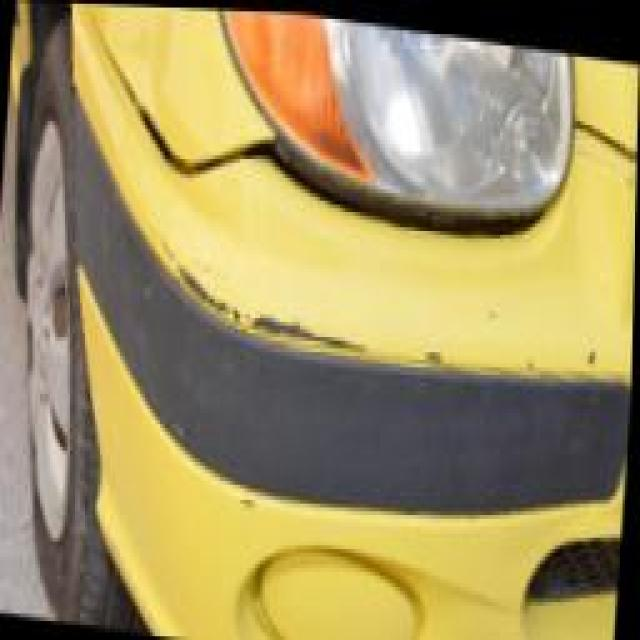Bumper: (20, 110, 638, 639)
